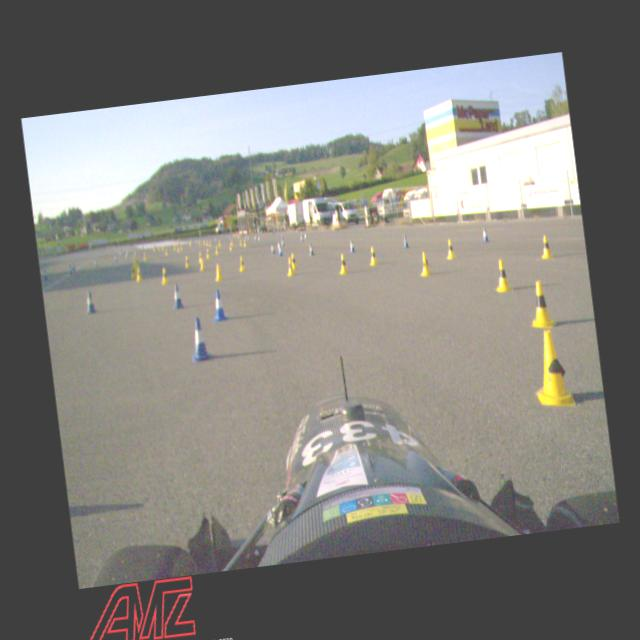blue_cone: (187, 315, 211, 362), (210, 288, 228, 322), (83, 289, 96, 316), (170, 282, 183, 309), (480, 226, 490, 242), (401, 232, 410, 248), (347, 238, 355, 253), (307, 242, 315, 256)
yellow_cone: (528, 326, 576, 411), (526, 278, 558, 331), (491, 256, 511, 292), (417, 250, 431, 277), (538, 234, 552, 259), (443, 237, 456, 260), (337, 252, 348, 274), (367, 244, 378, 266), (212, 262, 224, 282), (285, 256, 294, 276), (159, 266, 169, 284), (290, 252, 298, 270), (237, 256, 245, 270)
